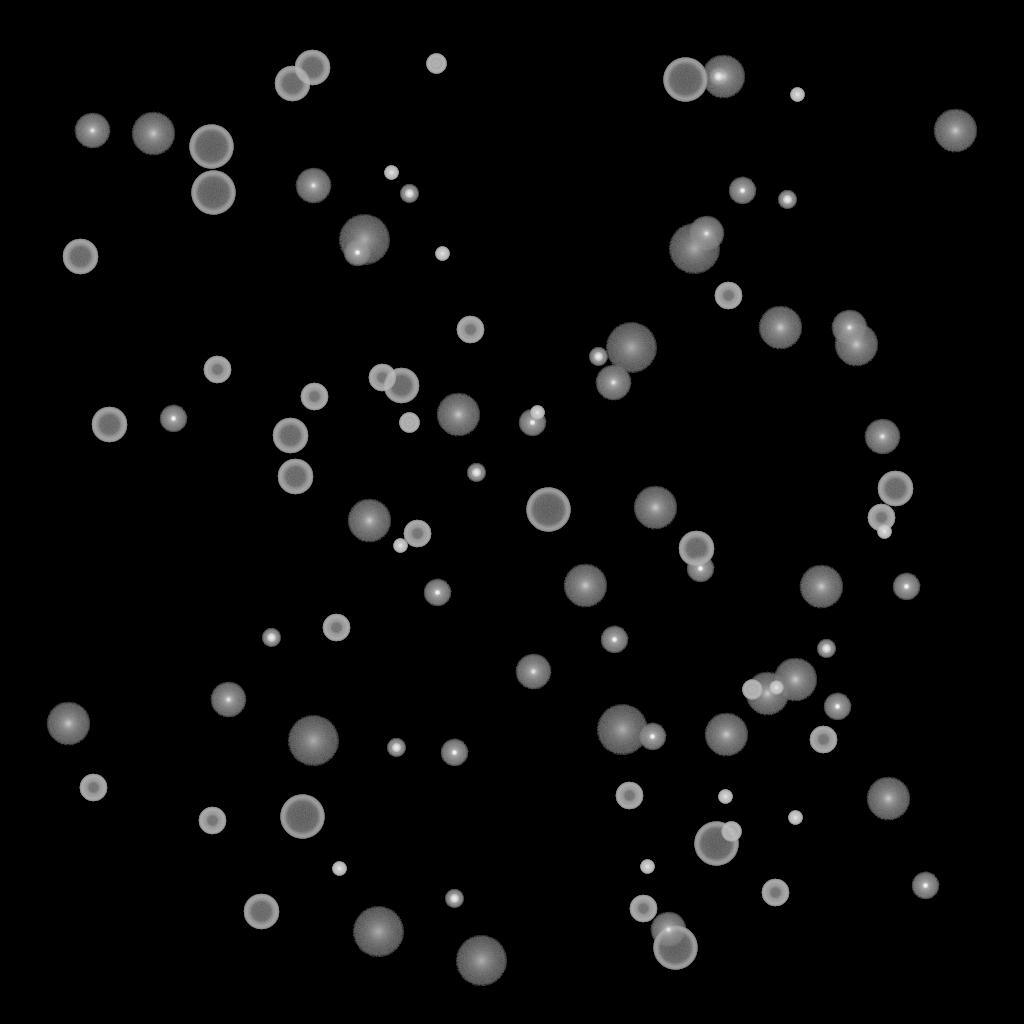depth:-10: (518, 409, 546, 437), (600, 626, 628, 654), (911, 872, 939, 900), (343, 239, 371, 267), (686, 555, 714, 583), (423, 579, 451, 607), (892, 573, 920, 601), (728, 177, 756, 205), (823, 693, 851, 721), (440, 739, 468, 767), (638, 723, 666, 751), (159, 405, 187, 433)
depth:-20: (467, 464, 485, 482), (400, 185, 418, 203), (817, 640, 835, 658), (387, 739, 405, 757), (262, 629, 280, 647), (445, 890, 463, 908), (709, 68, 727, 86), (589, 348, 607, 366), (778, 191, 796, 209)
depth:-30: (640, 860, 654, 874), (718, 790, 732, 804), (384, 166, 398, 180), (530, 406, 544, 420), (393, 539, 407, 553), (332, 862, 346, 876), (790, 88, 804, 102), (769, 681, 783, 695), (877, 525, 891, 539), (435, 247, 449, 261), (788, 811, 802, 825)
depth:-40: (742, 680, 762, 700), (426, 54, 446, 74), (721, 822, 741, 842), (399, 413, 419, 433)
depth:-50: (198, 807, 226, 835), (300, 383, 328, 411), (615, 782, 643, 810), (456, 316, 484, 344), (867, 504, 895, 532), (79, 774, 107, 802), (403, 520, 431, 548), (761, 879, 789, 907), (368, 364, 396, 392), (809, 726, 837, 754), (203, 356, 231, 384), (629, 895, 657, 923), (322, 614, 350, 642), (714, 282, 742, 310)
depth:-60: (62, 239, 98, 275), (383, 368, 419, 404), (274, 66, 310, 102), (91, 407, 127, 443), (277, 459, 313, 495), (294, 50, 330, 86), (678, 531, 714, 567), (243, 894, 279, 930), (877, 471, 913, 507), (272, 418, 308, 454)
depth:-70: (191, 171, 235, 215), (189, 125, 233, 169), (653, 926, 697, 970), (526, 488, 570, 532), (663, 58, 707, 102), (694, 822, 738, 866), (280, 795, 324, 839)
depth:0: (650, 912, 686, 948), (74, 113, 110, 149), (864, 419, 900, 455), (831, 310, 867, 346), (515, 654, 551, 690), (295, 168, 331, 204), (595, 365, 631, 401), (210, 682, 246, 718), (688, 216, 724, 252)
depth:10: (436, 393, 480, 437), (704, 713, 748, 757), (131, 112, 175, 156), (633, 486, 677, 530), (834, 323, 878, 367), (773, 658, 817, 702), (758, 306, 802, 350), (933, 109, 977, 153), (701, 55, 745, 99), (46, 702, 90, 746), (347, 499, 391, 543), (745, 672, 789, 716), (563, 564, 607, 608), (799, 565, 843, 609), (866, 777, 910, 821)
depth:20: (352, 907, 404, 957), (668, 224, 720, 274), (287, 716, 339, 766), (596, 705, 648, 755), (455, 936, 507, 986), (338, 215, 390, 265), (605, 323, 657, 373)
